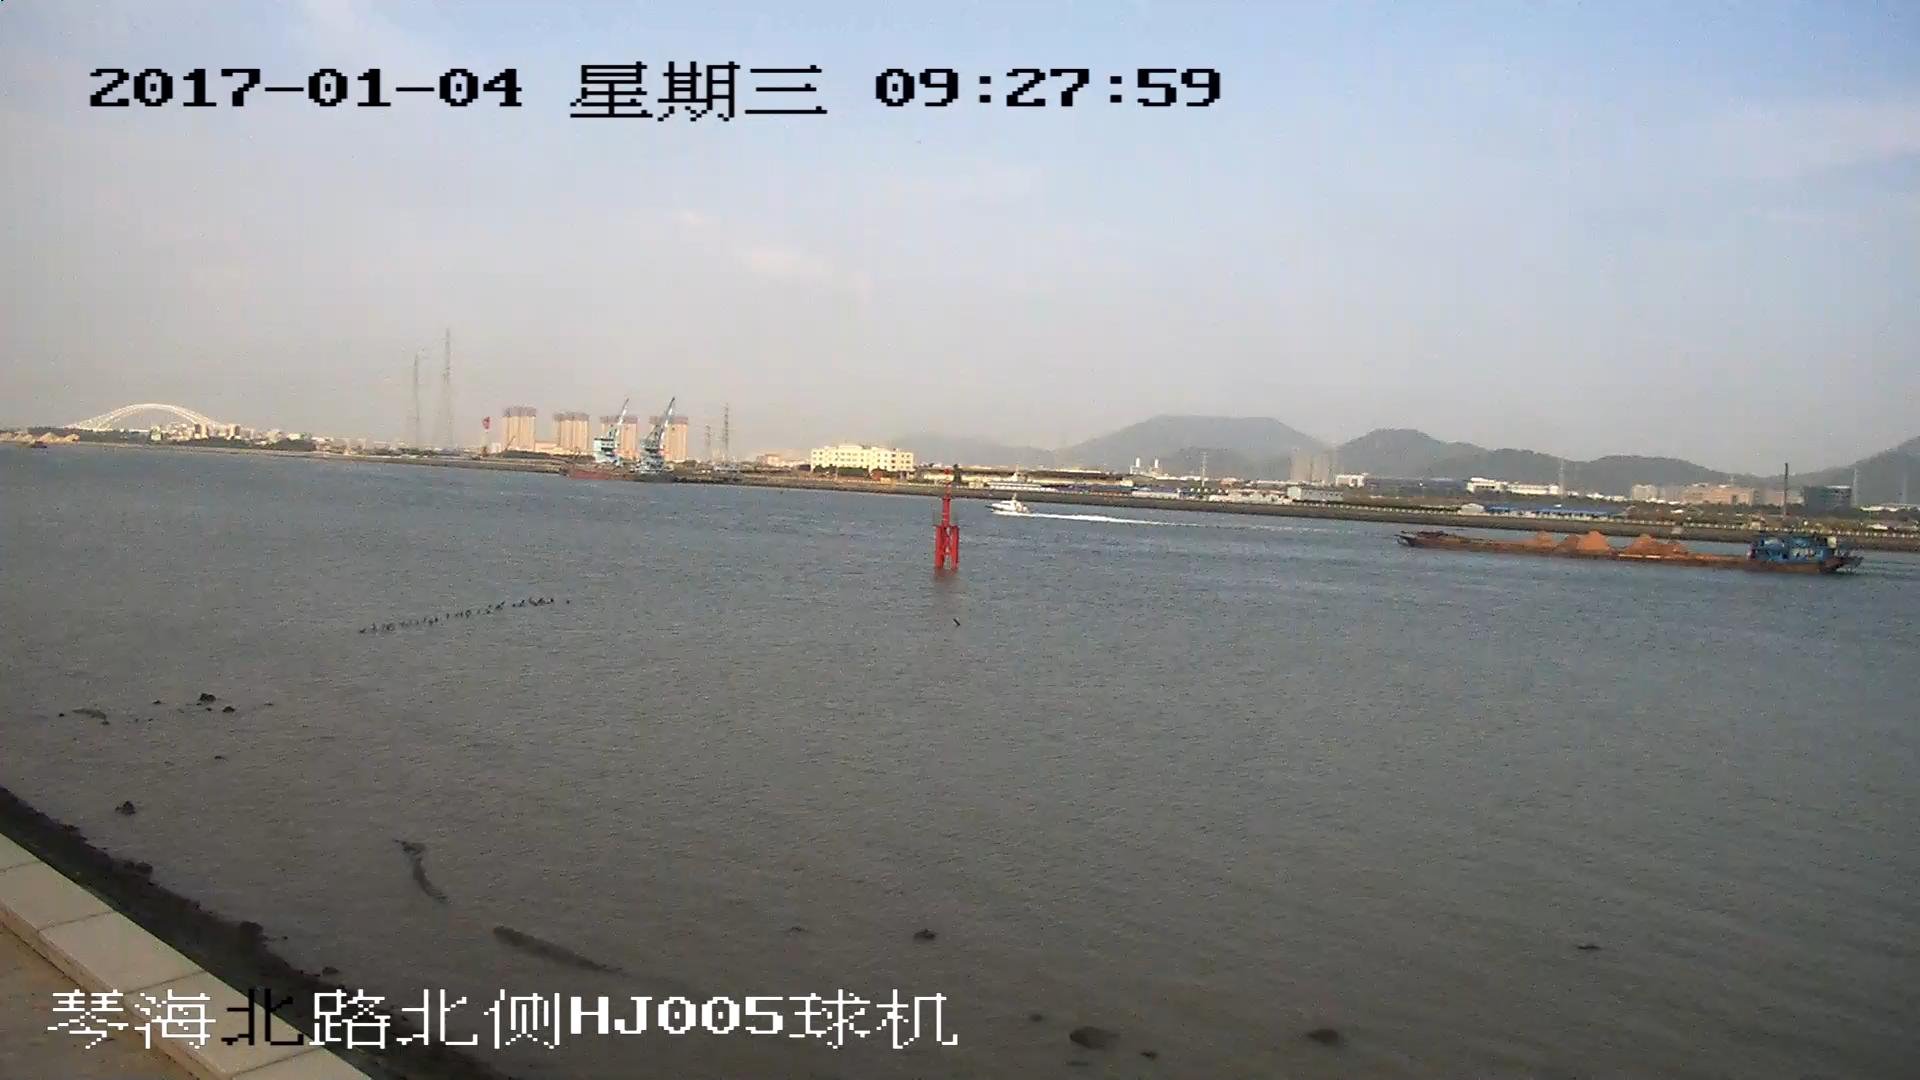ore carrier: (1409, 526, 1851, 571)
passenger ship: (992, 500, 1026, 514)
